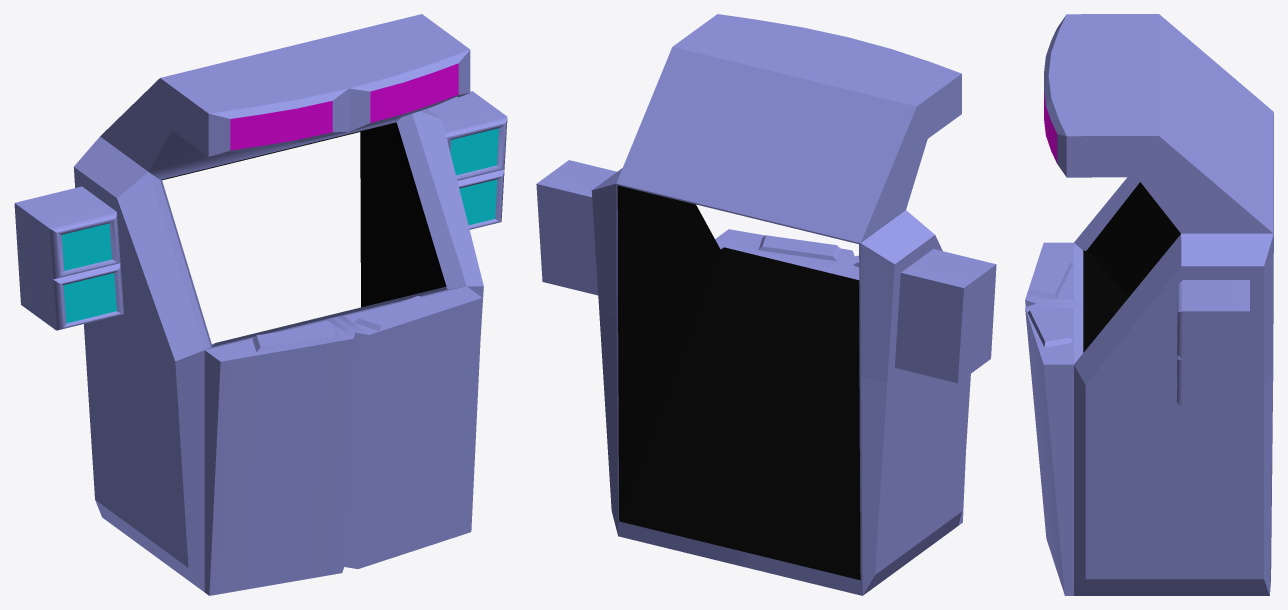
Rendered from arcade_16-9.fbx.
3 views of the same model, side by side, from view 1: azimuth 30°, elevation 25°; view 2: azimuth 150°, elevation 25°; view 3: azimuth 270°, elevation 25° (orthographic). The views are drawn at different scales.
Visible parts, largest first — view 1: arcade_openscreen16_9; view 2: arcade_openscreen16_9; view 3: arcade_openscreen16_9.
Boxes of the visible parts, left/top/right/bottom form: arcade_openscreen16_9: left=14, top=14, right=507, bottom=595; arcade_openscreen16_9: left=536, top=14, right=996, bottom=595; arcade_openscreen16_9: left=1025, top=14, right=1273, bottom=595.
Size of the model in its own units: 13.74 by 13.81 by 6.77.
